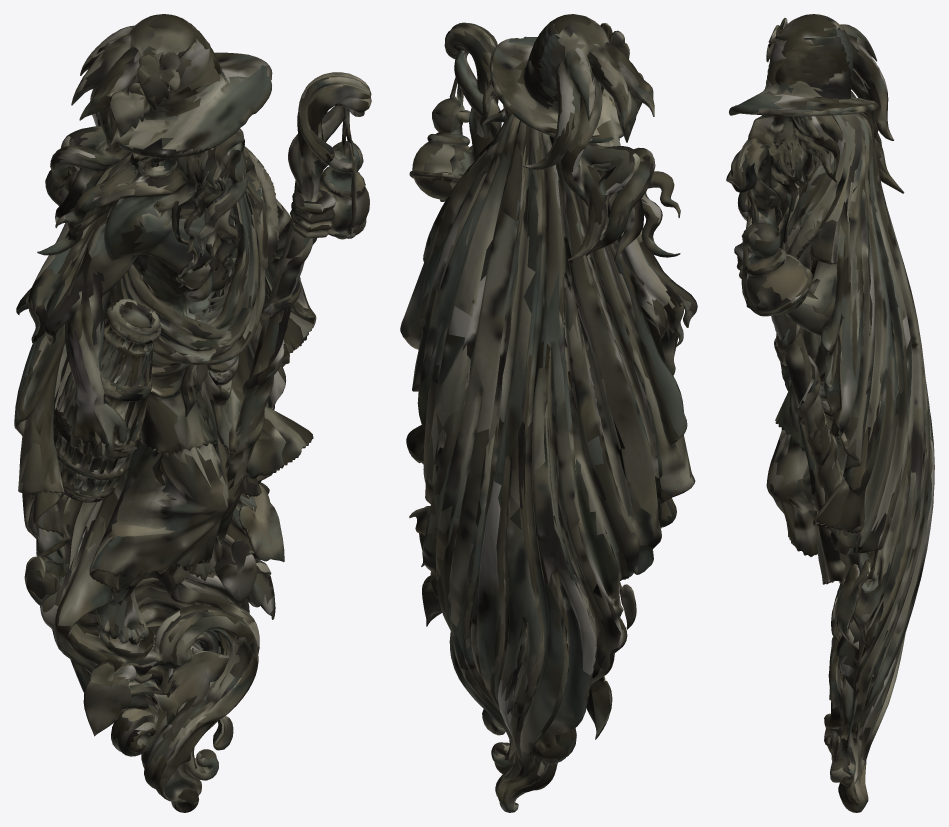
Rendered from hombre2.fbx.
3 views of the same model, side by side, from view 1: azimuth 30°, elevation 25°; view 2: azimuth 150°, elevation 25°; view 3: azimuth 270°, elevation 25° (orthographic). The views are drawn at different scales.
Parts seen in each view (by area): view 1: node_0.001; view 2: node_0.001; view 3: node_0.001.
Boxes of the visible parts, x1,y1,x2,y2 form: node_0.001: (14,14,371,812); node_0.001: (400,14,697,812); node_0.001: (726,14,934,812).
Size of the model in its own units: 47.69 by 118 by 28.82.
